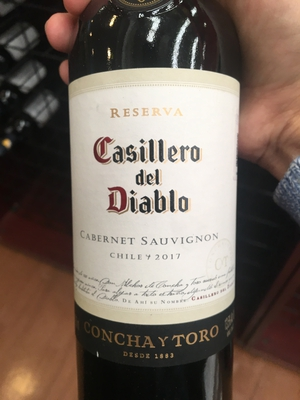casillero del diablo cabernet sauvignon: (64, 18, 242, 400)
